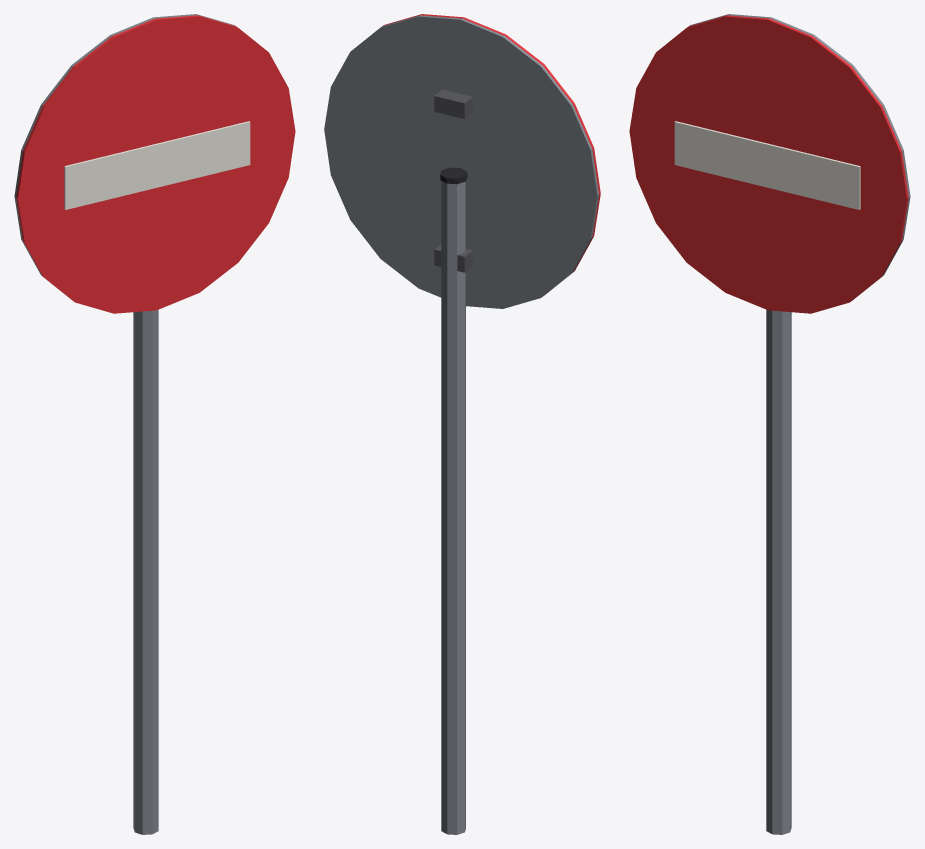
Rendered from road-sign.glb.
3 views of the same model, side by side, from view 1: azimuth 30°, elevation 25°; view 2: azimuth 150°, elevation 25°; view 3: azimuth 330°, elevation 25° (orthographic).
Parts seen in each view (by area): view 1: road_sign; view 2: road_sign; view 3: road_sign.
Boxes of the visible parts, x1,y1,x2,y2 form: road_sign: (14,14,295,834); road_sign: (324,14,600,834); road_sign: (629,14,910,834).
Size of the model in its own units: 0.54 by 1.52 by 0.064.
